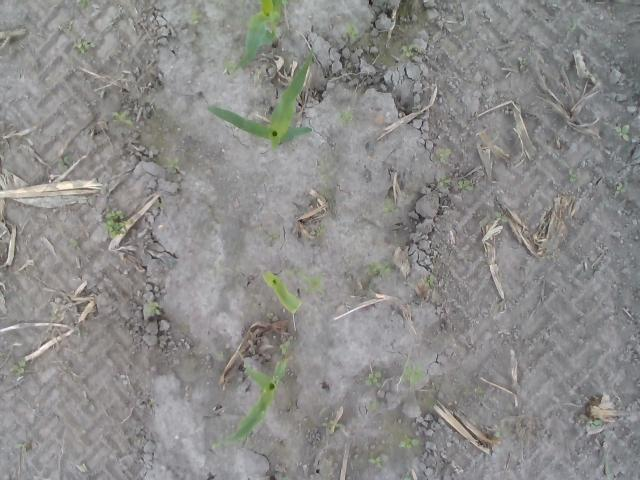Maize: (206, 46, 315, 150), (210, 357, 288, 450), (238, 0, 282, 67), (262, 270, 302, 314)
Weeds: (104, 208, 127, 240), (399, 358, 426, 385), (304, 272, 326, 296), (367, 258, 393, 277), (110, 110, 134, 127), (344, 18, 360, 42), (614, 124, 634, 143), (382, 196, 400, 216), (9, 359, 26, 378), (322, 416, 342, 432), (398, 433, 419, 448), (74, 38, 91, 56), (335, 111, 354, 127), (436, 146, 453, 162), (366, 368, 382, 385), (144, 300, 162, 315), (222, 60, 240, 74), (458, 178, 476, 192), (399, 44, 416, 58), (190, 8, 203, 26), (366, 399, 384, 412), (366, 454, 384, 466), (166, 157, 182, 170), (312, 223, 326, 237), (495, 211, 509, 224), (286, 268, 306, 277), (436, 174, 448, 188), (512, 56, 530, 64), (568, 168, 577, 184), (424, 274, 434, 288), (70, 239, 82, 250), (278, 341, 289, 352), (590, 418, 602, 428), (80, 0, 92, 9), (474, 386, 486, 394), (15, 438, 24, 448), (278, 473, 288, 480), (404, 472, 412, 480), (616, 184, 624, 192), (494, 431, 503, 437)
